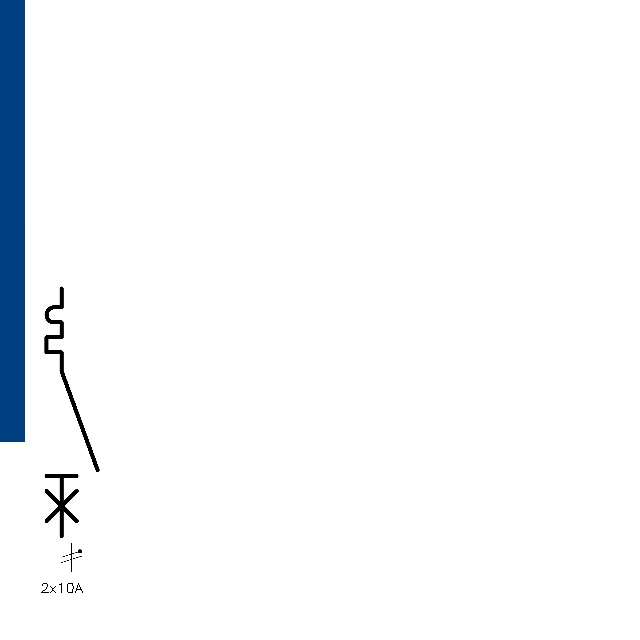interruptor_termomagnetico: (40, 282, 103, 542)
